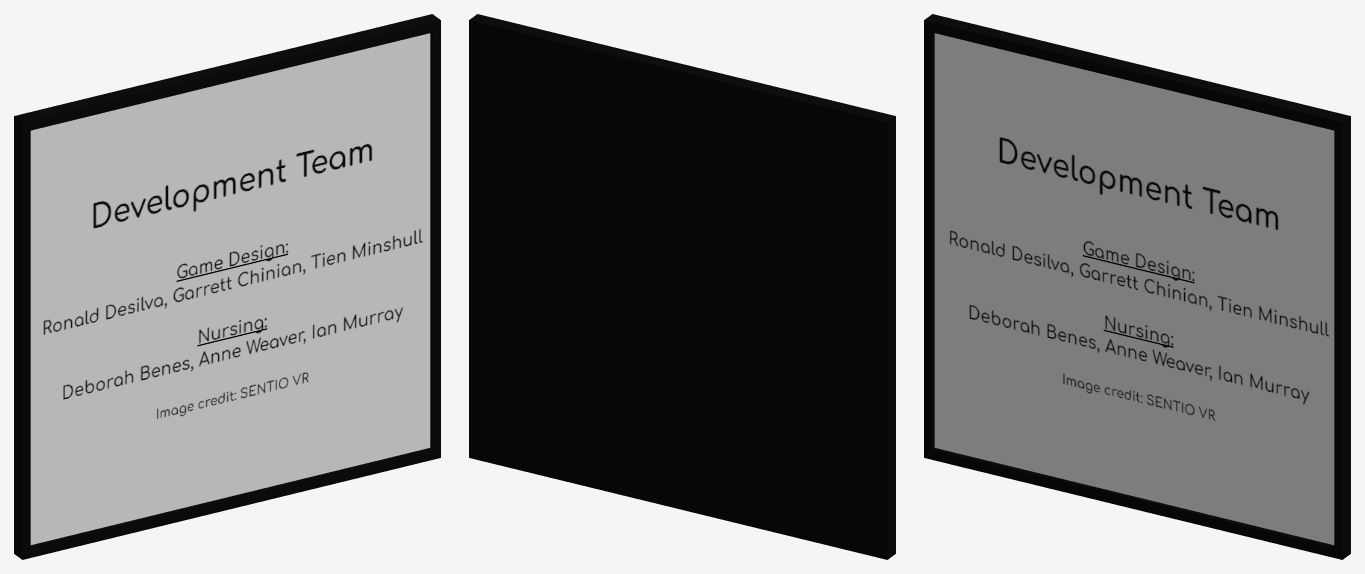
The model's file is CreditBoard.fbx.
3 renders of one model, left to right at view 1: azimuth 30°, elevation 25°; view 2: azimuth 150°, elevation 25°; view 3: azimuth 330°, elevation 25°, orthographic.
Parts seen in each view (by area): view 1: CreditBoard; view 2: CreditBoard; view 3: CreditBoard.
Part boxes in pixels (x1,y1,x2,y2): CreditBoard: (14,14,440,559); CreditBoard: (469,14,895,559); CreditBoard: (924,14,1350,559).
Size of the model in its own units: 4 by 4 by 0.1385.
